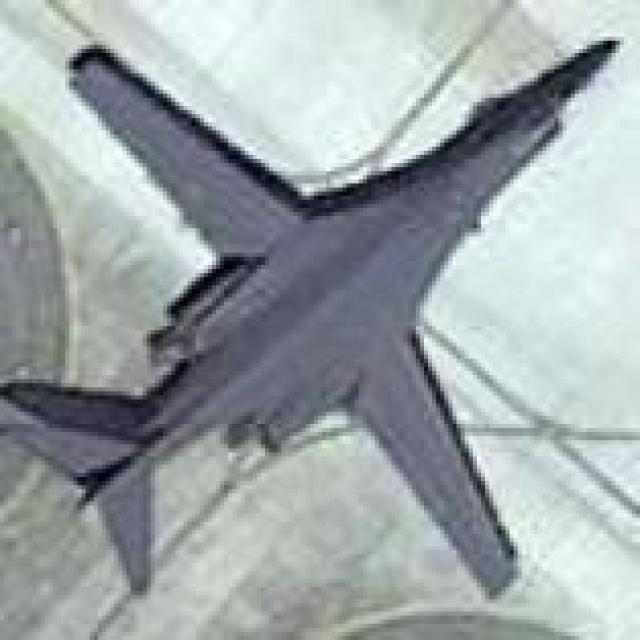B-1_TopDown: (0, 24, 620, 600)
